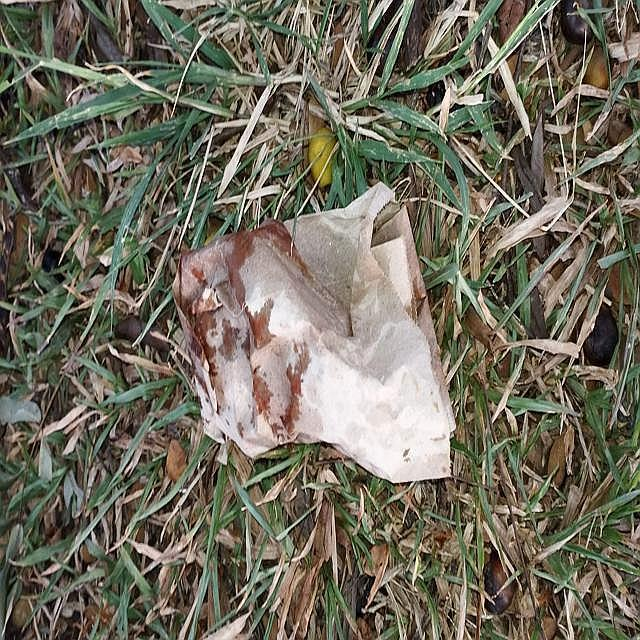Biodegradable: (173, 195, 455, 485)
